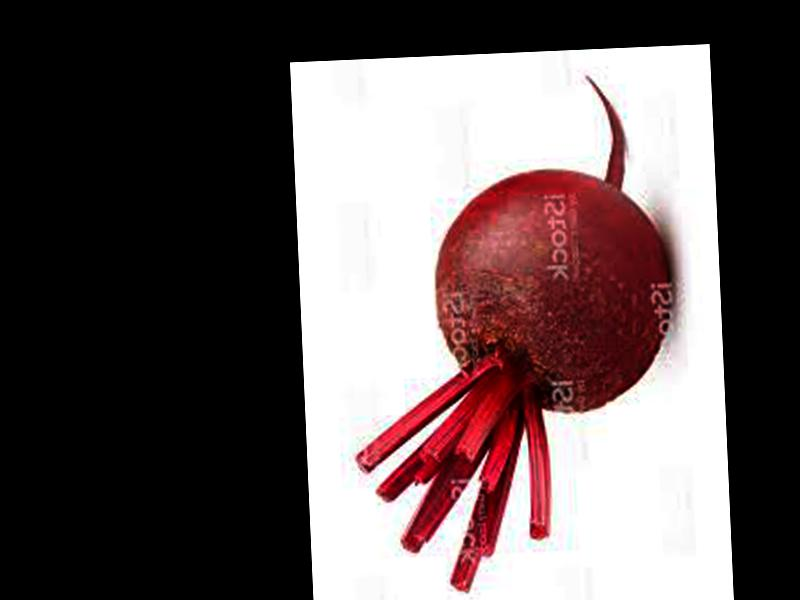Beet: (341, 73, 681, 595)
